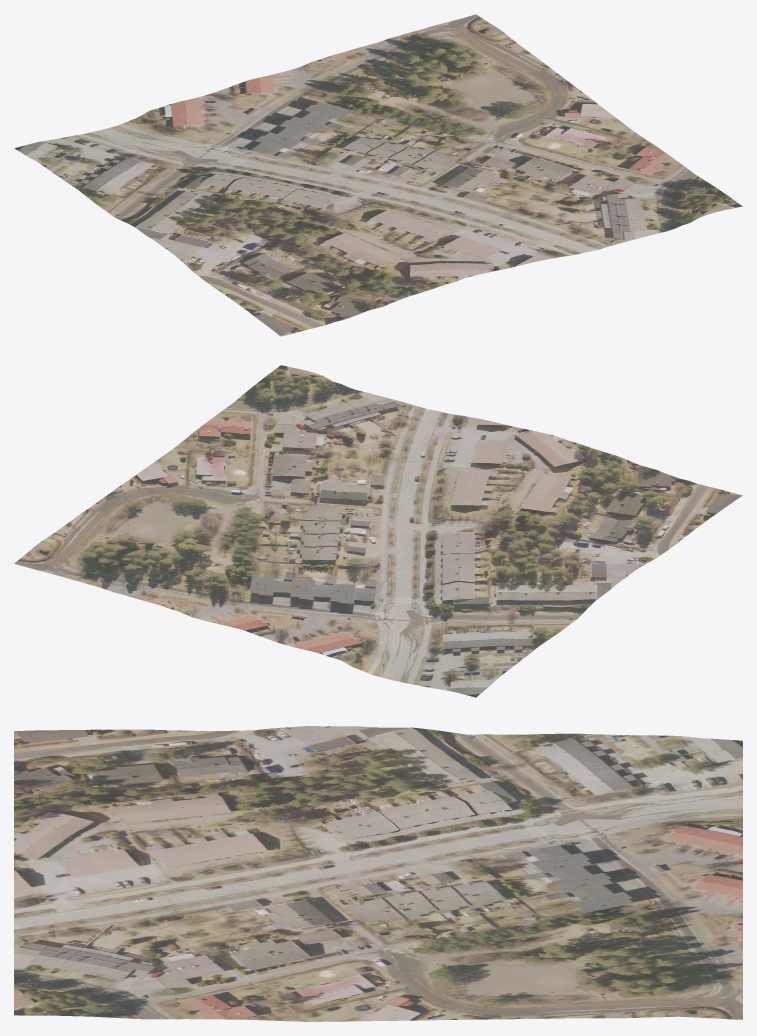
The model's file is CM_Terrain_24490663_6817336.fbx.
The picture shows the model from 3 angles, top to bottom: view 1: azimuth 30°, elevation 25°; view 2: azimuth 150°, elevation 25°; view 3: azimuth 270°, elevation 25°; orthographic projection. The views are drawn at different scales.
Visible parts, largest first — view 1: CM_Terrain_24490663_6817336_LOD0; view 2: CM_Terrain_24490663_6817336_LOD0; view 3: CM_Terrain_24490663_6817336_LOD0.
Part boxes in pixels (x1=…): CM_Terrain_24490663_6817336_LOD0: x1=14, y1=14, x2=742, y2=336; CM_Terrain_24490663_6817336_LOD0: x1=14, y1=365, x2=742, y2=697; CM_Terrain_24490663_6817336_LOD0: x1=14, y1=726, x2=742, y2=1021.
Size of what is drawn, in the model's own units: 205 by 11.96 by 205.
